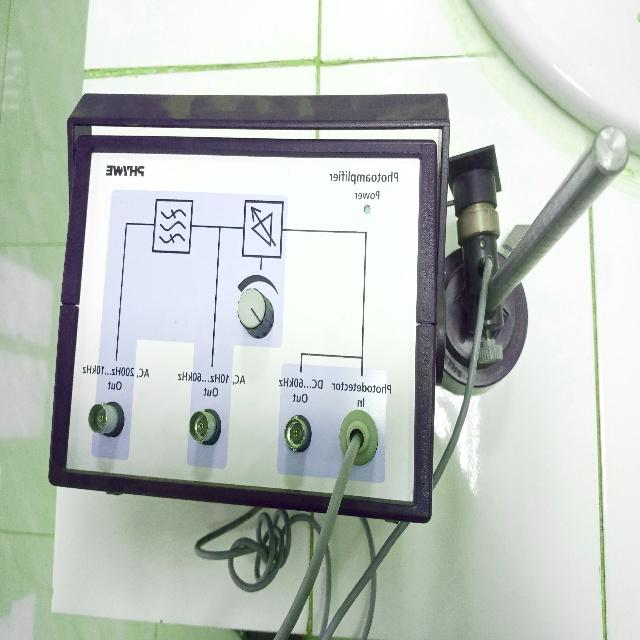Photo Amplifier Power Supply: (35, 70, 634, 552)
